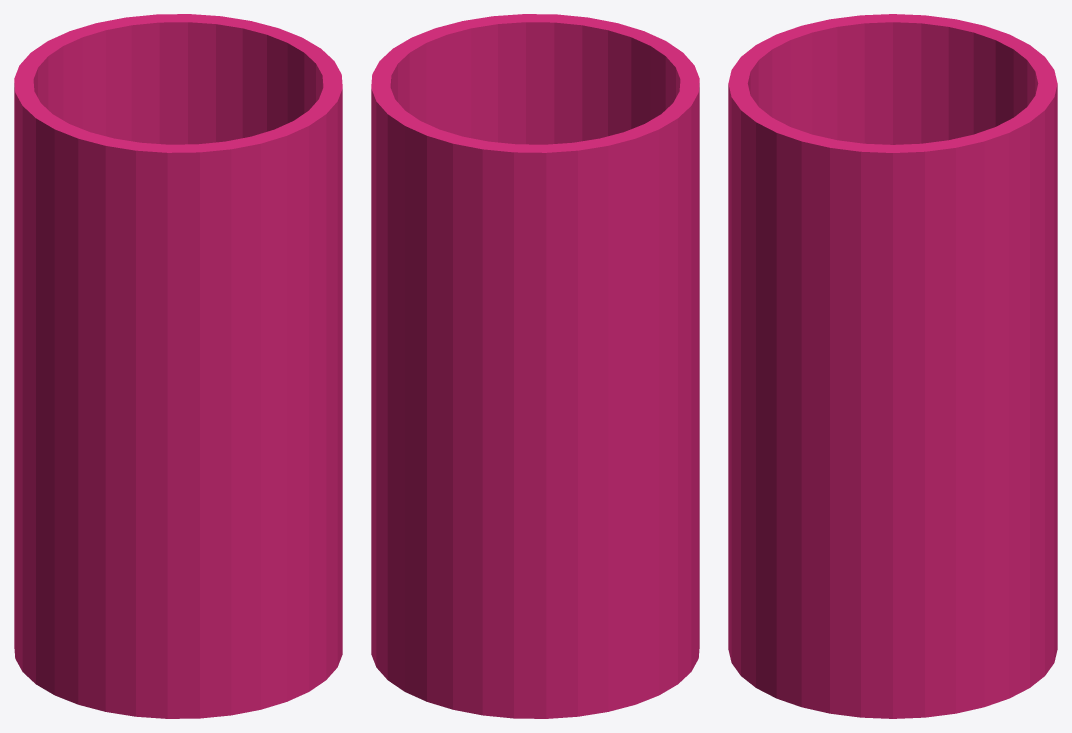
The picture shows the model from 3 angles, left to right: view 1: azimuth 30°, elevation 25°; view 2: azimuth 150°, elevation 25°; view 3: azimuth 270°, elevation 25°; orthographic projection.
Visible parts, largest first — view 1: Cylinder; view 2: Cylinder; view 3: Cylinder.
Boxes of the visible parts, x1,y1,x2,y2 form: Cylinder: (14, 14, 342, 718); Cylinder: (371, 14, 699, 718); Cylinder: (728, 14, 1057, 718).
Bounding box in the file's own units: 379 × 719 × 379.
